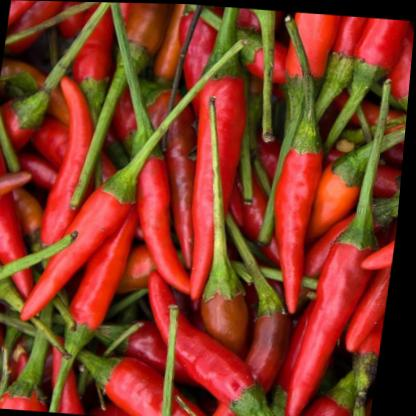chilli_pepper: (19, 1, 247, 334), (282, 62, 410, 416), (254, 9, 346, 327)
